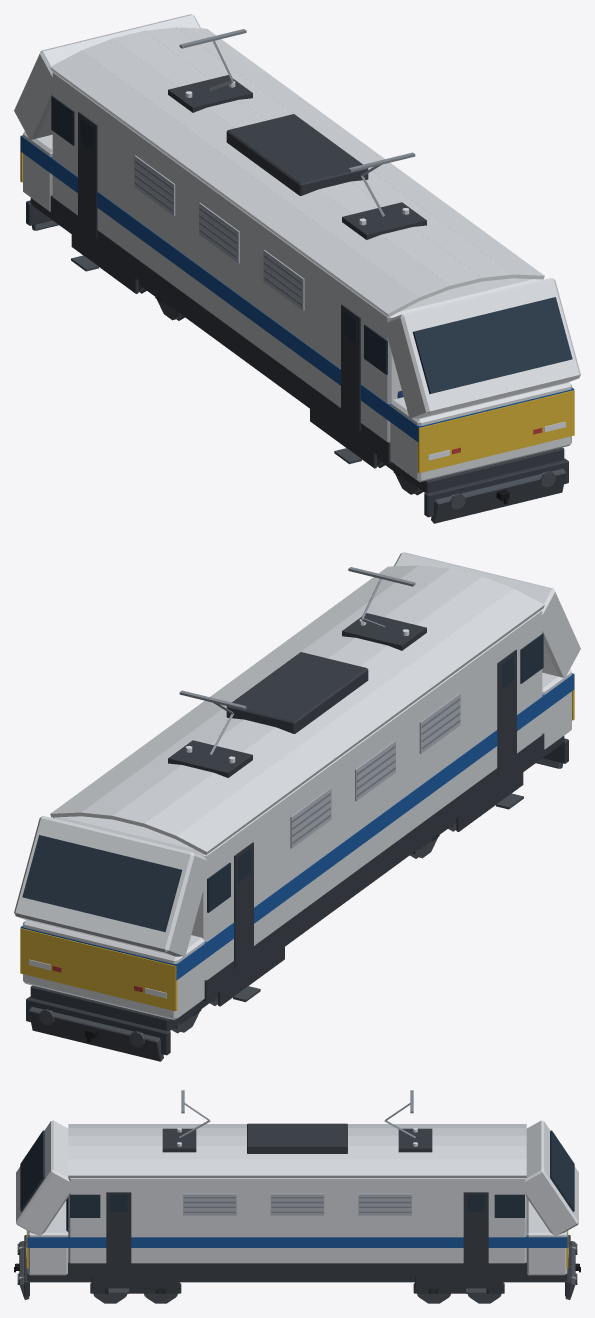
The model's file is locomotive_electrique.glb.
3 views of the same model, one above another, from view 1: azimuth 30°, elevation 25°; view 2: azimuth 150°, elevation 25°; view 3: azimuth 270°, elevation 25° (orthographic). The views are drawn at different scales.
Visible parts, largest first — view 1: pieces_moderne.002, pieces_moderne_sombre.002, pieces_verre_sombre.004, pieces_jaune.006, pieces_moderne_bleu.002, pieces_acier_sombre.008, pieces_gris_clair.004, pieces_acier.008; view 2: pieces_moderne.002, pieces_moderne_sombre.002, pieces_verre_sombre.004, pieces_jaune.006, pieces_moderne_bleu.002, pieces_acier_sombre.008, pieces_gris_clair.004, pieces_acier.008; view 3: pieces_moderne.002, pieces_moderne_sombre.002, pieces_moderne_bleu.002, pieces_verre_sombre.004, pieces_gris_clair.004, pieces_acier.008, pieces_acier_sombre.008, roues_ar_acier_sombre.008, roues_av_acier_sombre.008.
Part boxes in pixels (x1,y1,x2,y2): pieces_moderne.002: [14, 14, 580, 482]; pieces_moderne_sombre.002: [26, 75, 568, 517]; pieces_verre_sombre.004: [51, 95, 572, 394]; pieces_jaune.006: [20, 136, 574, 473]; pieces_moderne_bleu.002: [20, 135, 574, 442]; pieces_acier_sombre.008: [32, 220, 566, 523]; pieces_gris_clair.004: [134, 155, 304, 310]; pieces_acier.008: [134, 29, 544, 495]; pieces_moderne.002: [14, 552, 580, 1020]; pieces_moderne_sombre.002: [26, 613, 568, 1055]; pieces_verre_sombre.004: [22, 633, 543, 932]; pieces_jaune.006: [20, 674, 574, 1011]; pieces_moderne_bleu.002: [20, 673, 574, 980]; pieces_acier_sombre.008: [28, 758, 562, 1061]; pieces_gris_clair.004: [290, 693, 460, 848]; pieces_acier.008: [50, 567, 460, 1033]; pieces_moderne.002: [16, 1120, 578, 1275]; pieces_moderne_sombre.002: [24, 1123, 570, 1296]; pieces_moderne_bleu.002: [27, 1231, 567, 1247]; pieces_verre_sombre.004: [20, 1130, 574, 1217]; pieces_gris_clair.004: [183, 1193, 411, 1215]; pieces_acier.008: [19, 1090, 575, 1279]; pieces_acier_sombre.008: [17, 1241, 577, 1299]; roues_ar_acier_sombre.008: [415, 1282, 503, 1303]; roues_av_acier_sombre.008: [91, 1282, 179, 1303].
Bounding box in the file's own units: 2.03 × 3.18 × 8.41.
